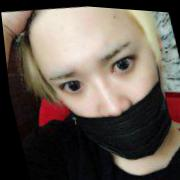WRONG: (32, 17, 179, 169)
